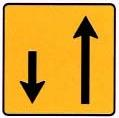numero de sentido das vias de transito: (2, 1, 117, 117)
